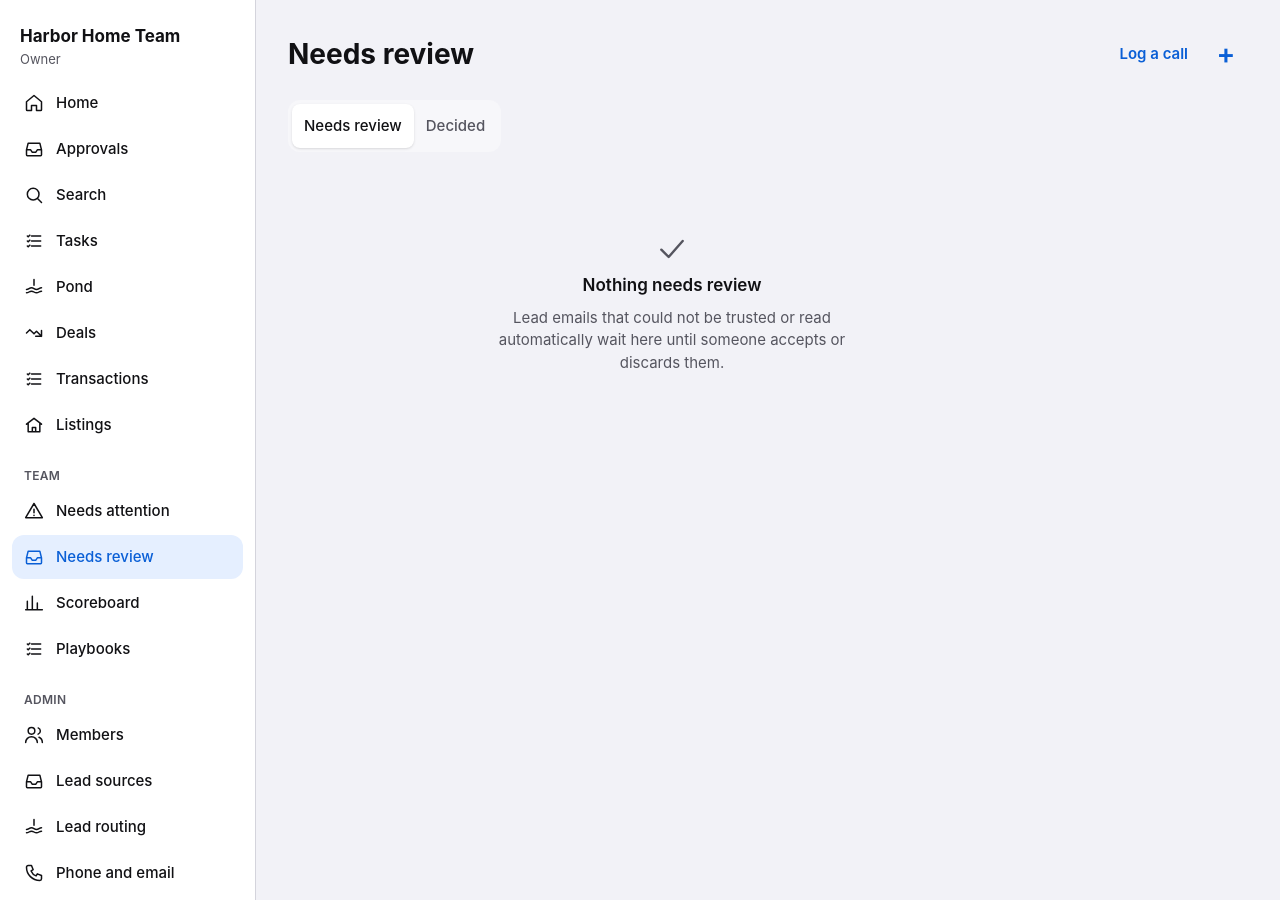
Test: Needs review › with nothing held it says so once, in the empty state (the header adds no second "No emails are waiting" line); on Decided the header still says none are waitin
The width and height of the screenshot is (1280, 900).
expect the text "Lead emails that could not be trusted or read automatically wait here until someone accepts or discards them." is shown: met, box [499,308,845,372]
expect the text "No emails are waiting for review." is not shown: met
the Decided list does not say what is waiting, so the header does, after the control
What coordinates should you click on to do the following:
click the radio button labelled "Decided"
I would click on:
 (456, 126)
Its box is [414,104,497,148].
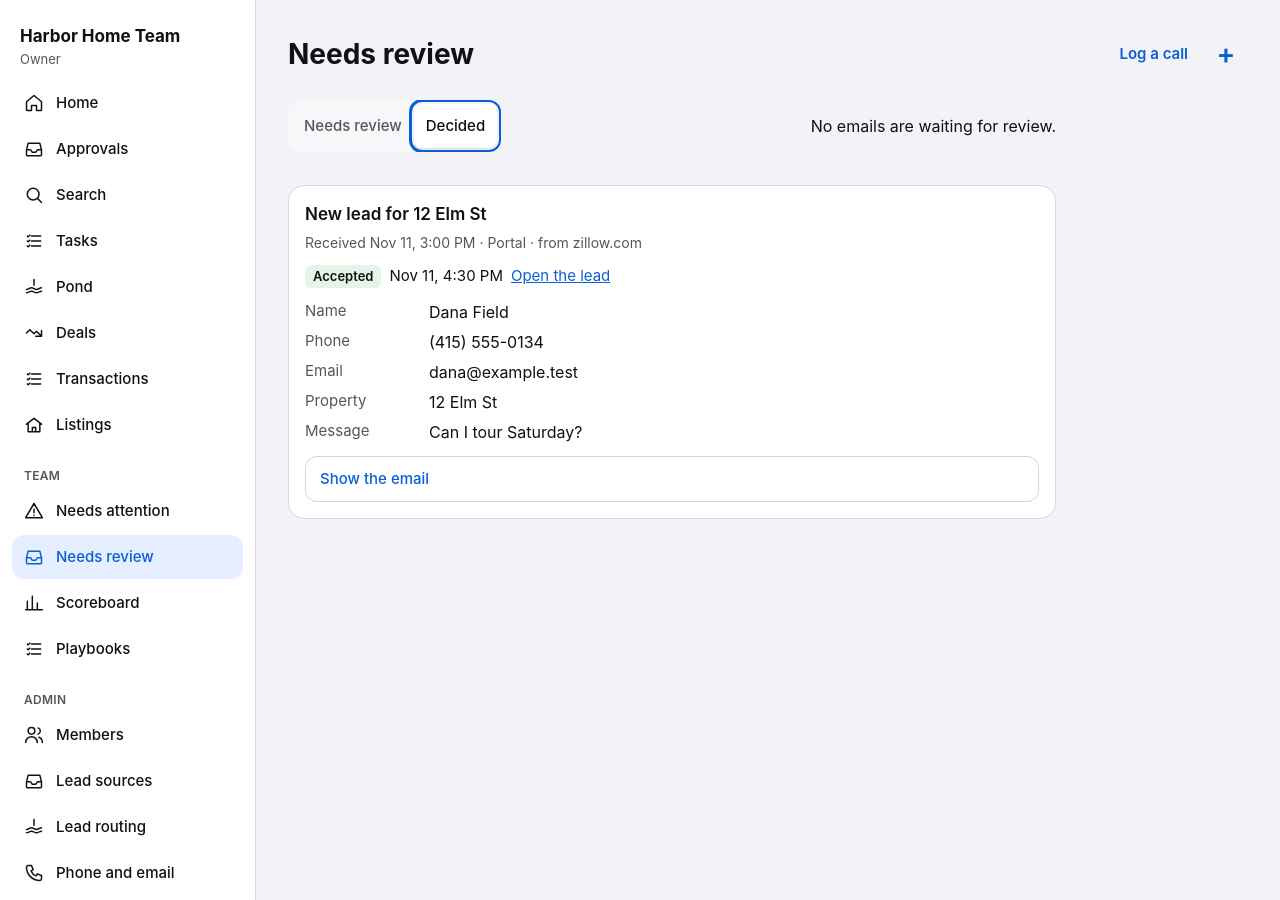
expect the text "Accepted" is shown: met, box [305,264,382,288]
expect the text with test id "pending-count" reads "No emails are waiting for review.": met, box [811,116,1056,136]
expect the text "Nothing needs review" is gone: met
